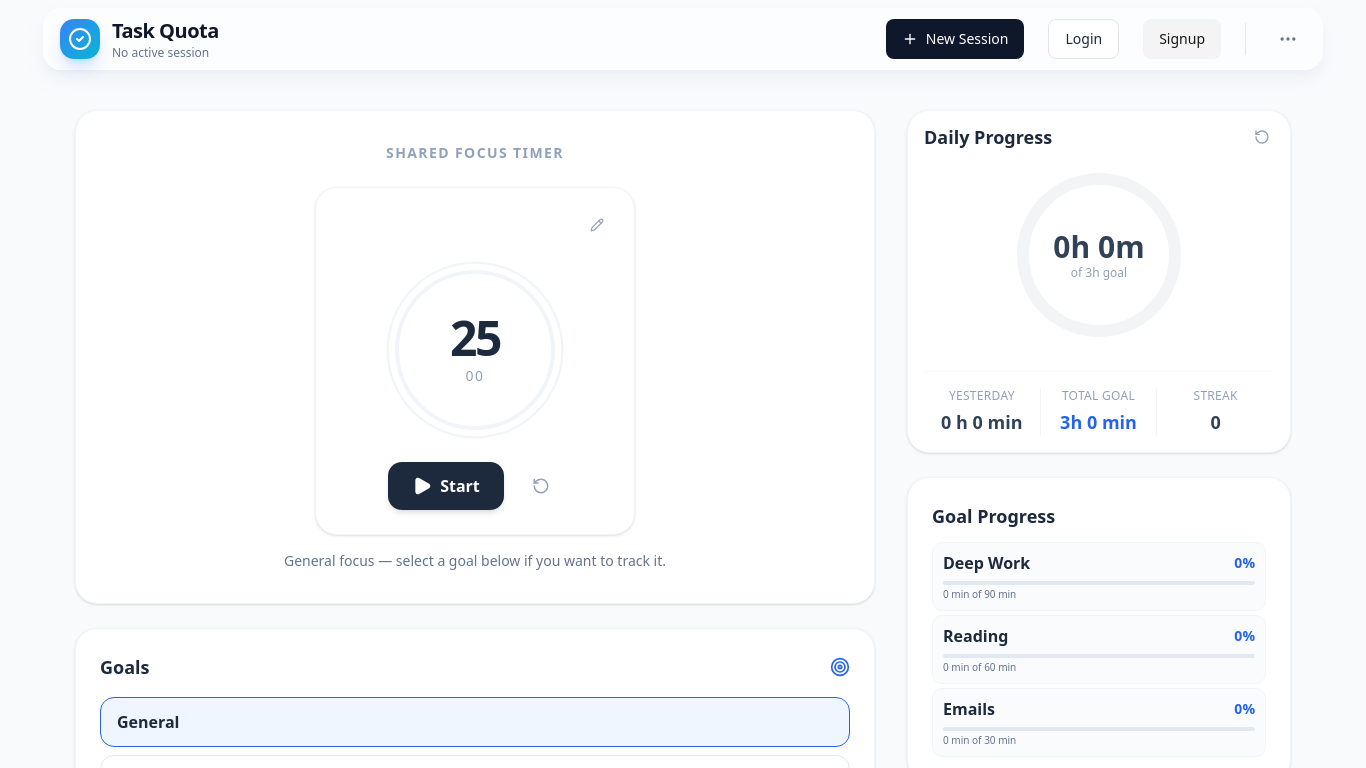
Scenario: App Component › Settings Menu › should open settings menu when menu button is clicked
The image size is (1366, 768).
Click the button named "Open settings": (1288, 39) [1270, 21, 1306, 57]
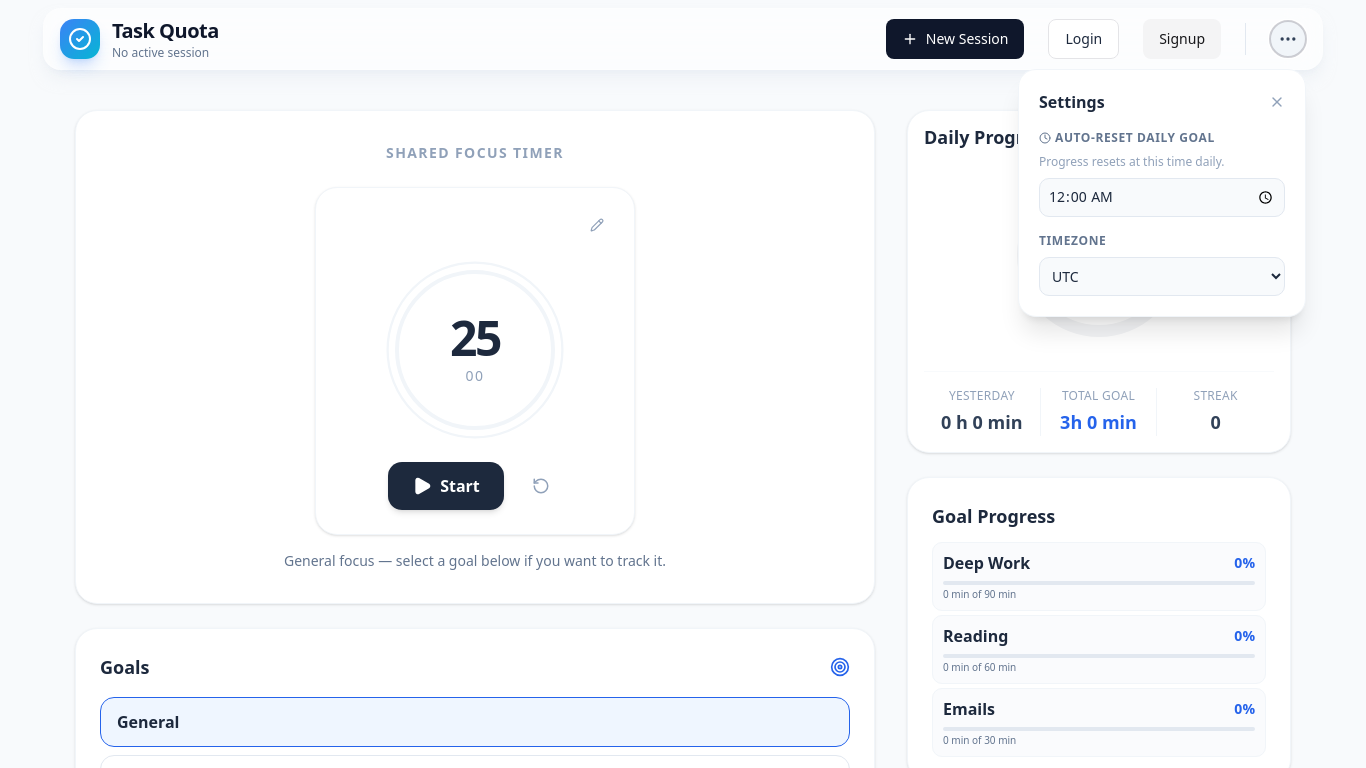
Now the heading "Settings" is shown, box [1039, 90, 1105, 114]
